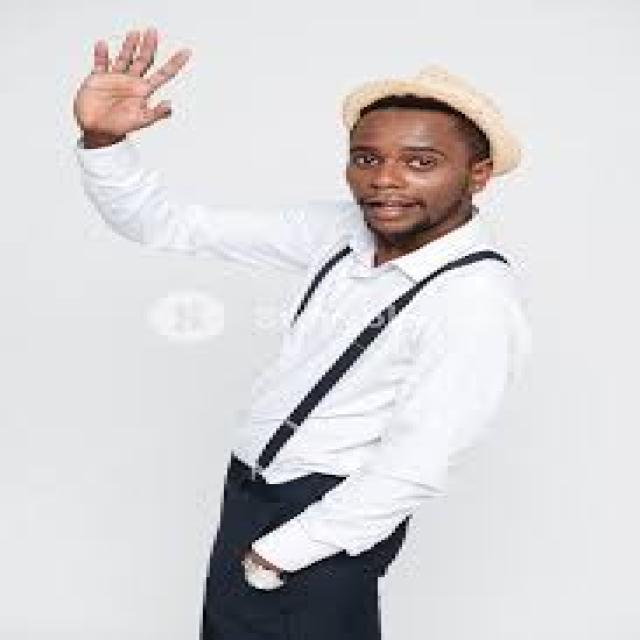hat: (332, 63, 525, 247)
